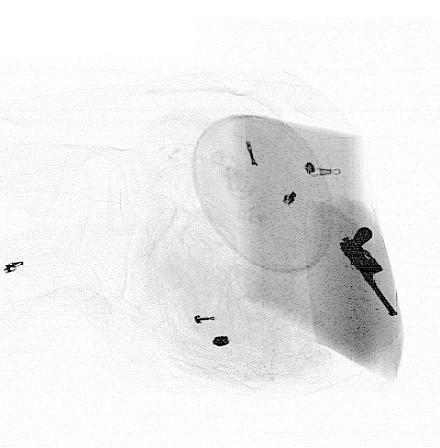Gun: (339, 226, 397, 316)
